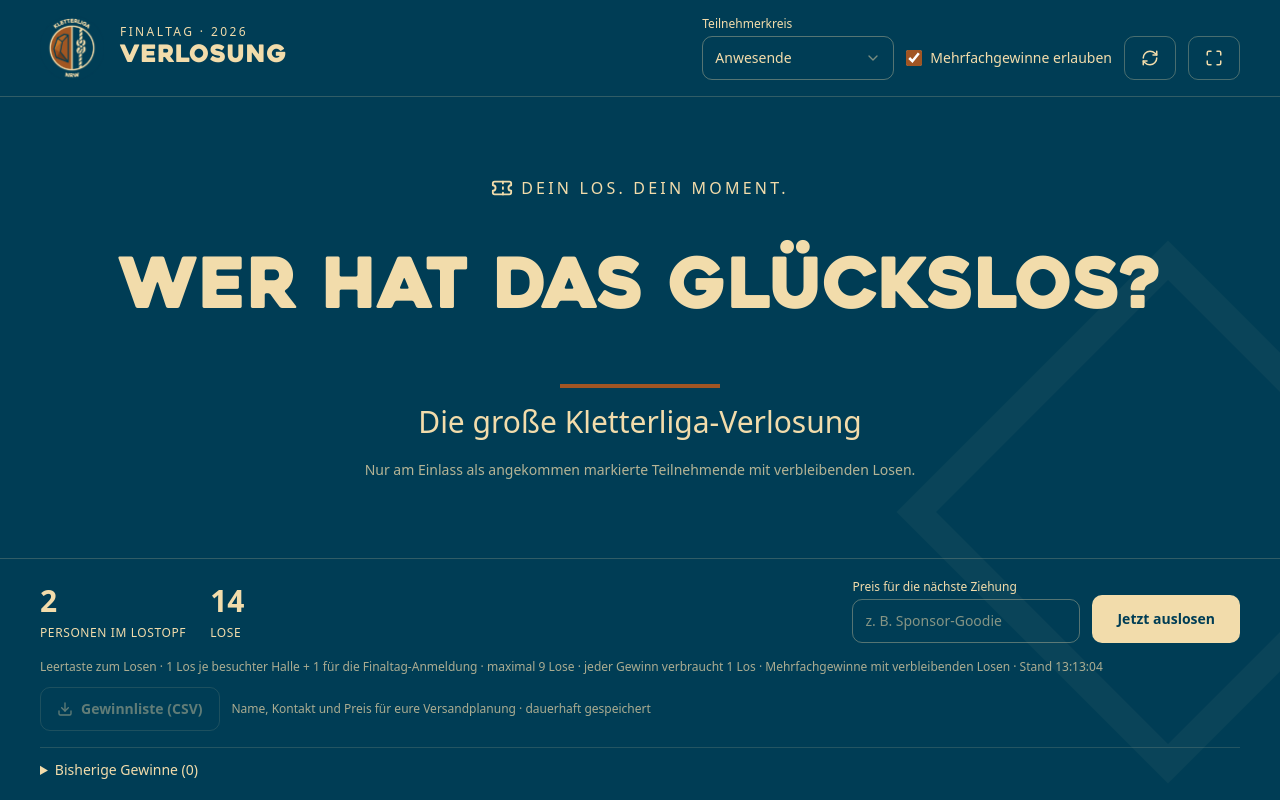
Test: TV raffle › refreshes the pool and snapshots the selected winner policy for a draw
Later steps or results of the test are not shown.
Step 1. Click the checkbox labelled "Mehrfachgewinne erlauben" → (914, 58), box x1=906 y1=50 x2=922 y2=66
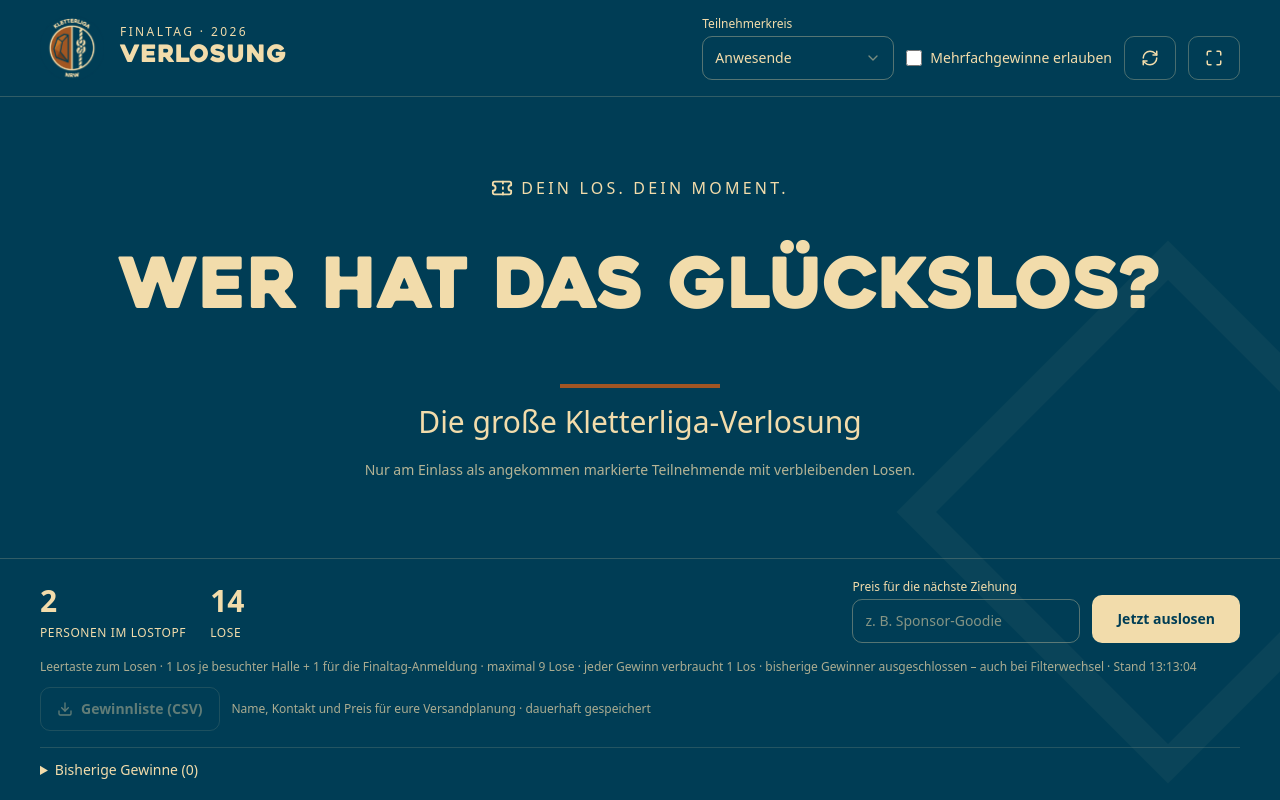
Result: the text "bisherige Gewinner ausgeschlossen" is shown at x1=765 y1=658 x2=1104 y2=675
